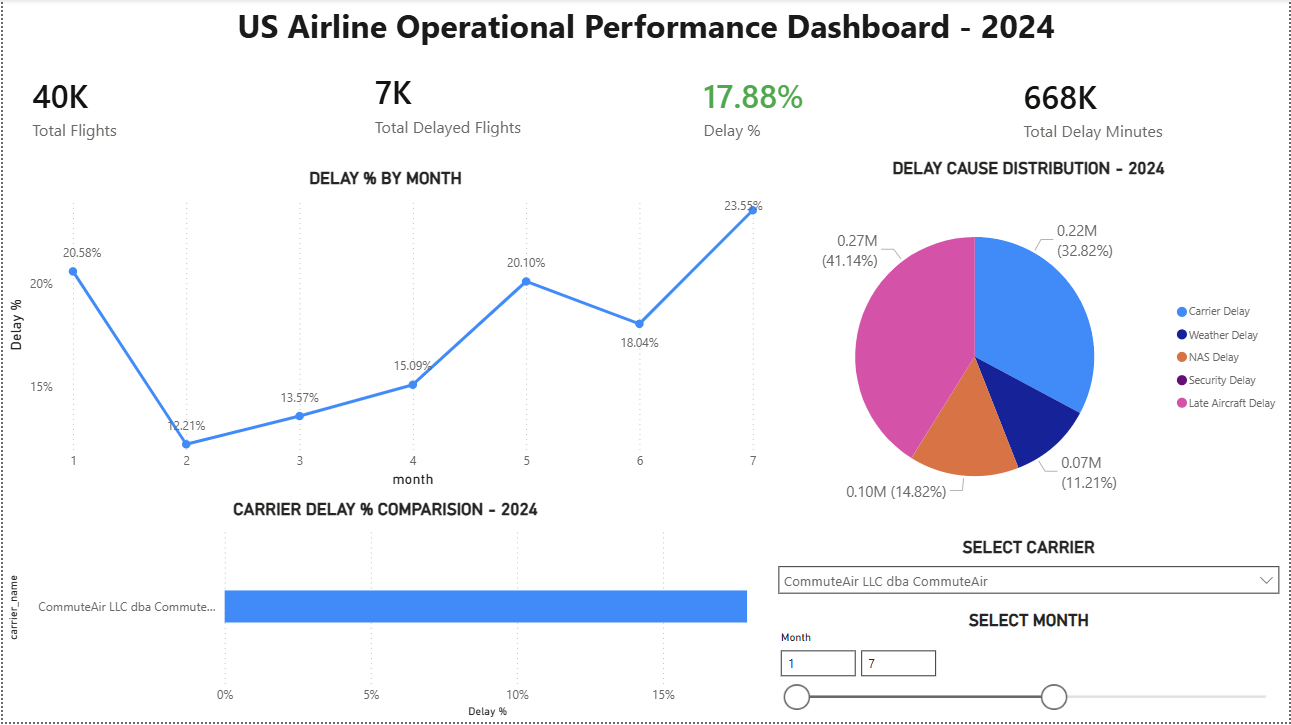

This screenshot's page, from the dashboard's own definition file:
{"tool":"powerbi","page":{"name":"Page 1","canvas":[1280,720],"ordinal":0},"visuals":[{"type":"cardVisual","fields":{"Data":["airline_project airline_delay_cause.Total Flights"]},"box":[0,57.2,340.8,100.8],"z":0},{"type":"cardVisual","fields":{"Data":["airline_project airline_delay_cause.Total Delayed Flights"]},"box":[340.8,49.8,327.2,108.2],"z":1000},{"type":"cardVisual","fields":{"Data":["airline_project airline_delay_cause.Delay %"]},"box":[668,57.2,318.5,100.8],"z":2000},{"type":"cardVisual","fields":{"Data":["airline_project airline_delay_cause.Total Delay Minutes"]},"box":[986.5,58.5,293.6,99.5],"z":3000},{"type":"lineChart","title":"DELAY % BY MONTH","fields":{"Category":["airline_project airline_delay_cause.month"],"Y":["airline_project airline_delay_cause.Delay %"]},"box":[0,167.9,761.3,323.4],"z":4000},{"type":"pieChart","title":"DELAY CAUSE DISTRIBUTION - 2024","fields":{"Y":["Sum(airline_project airline_delay_cause.carrier_delay)","Sum(airline_project airline_delay_cause.weather_delay)","Sum(airline_project airline_delay_cause.nas_delay)","Sum(airline_project airline_delay_cause.security_delay)","airline_project airline_delay_cause.Late Aircraft Delay"]},"box":[761.3,158,518.7,376.9],"z":5000},{"type":"clusteredBarChart","title":"CARRIER DELAY % COMPARISION - 2024","fields":{"Category":["airline_project airline_delay_cause.carrier_name"],"Y":["airline_project airline_delay_cause.Delay %"]},"box":[0,497.6,761.3,222.7],"z":6000},{"type":"slicer","title":"SELECT CARRIER","fields":{"Values":["airline_project airline_delay_cause.carrier_name"]},"box":[761.2,534.5,518.8,74.1],"z":7000},{"type":"slicer","title":"SELECT MONTH","fields":{"Values":["airline_project airline_delay_cause.month"]},"box":[761.2,608.6,518.8,111.2],"z":8000},{"type":"textbox","box":[0,0,1280,74.6],"z":8001}]}

Visuals, with their boxes in screenshot pixels (x1, y1, x2, y2), scaled from the page's 1280x720 canvas onto the 1291x725 screenshot:
cardVisual - airline_project airline_delay_cause.Total Flights: box(0, 58, 344, 159)
cardVisual - airline_project airline_delay_cause.Total Delayed Flights: box(344, 50, 674, 159)
cardVisual - airline_project airline_delay_cause.Delay %: box(674, 58, 995, 159)
cardVisual - airline_project airline_delay_cause.Total Delay Minutes: box(995, 59, 1290, 159)
"DELAY % BY MONTH" lineChart: box(0, 169, 768, 495)
"DELAY CAUSE DISTRIBUTION - 2024" pieChart: box(768, 159, 1290, 539)
"CARRIER DELAY % COMPARISION - 2024" clusteredBarChart: box(0, 501, 768, 724)
"SELECT CARRIER" slicer: box(768, 538, 1290, 613)
"SELECT MONTH" slicer: box(768, 613, 1290, 724)
textbox: box(0, 0, 1290, 75)
